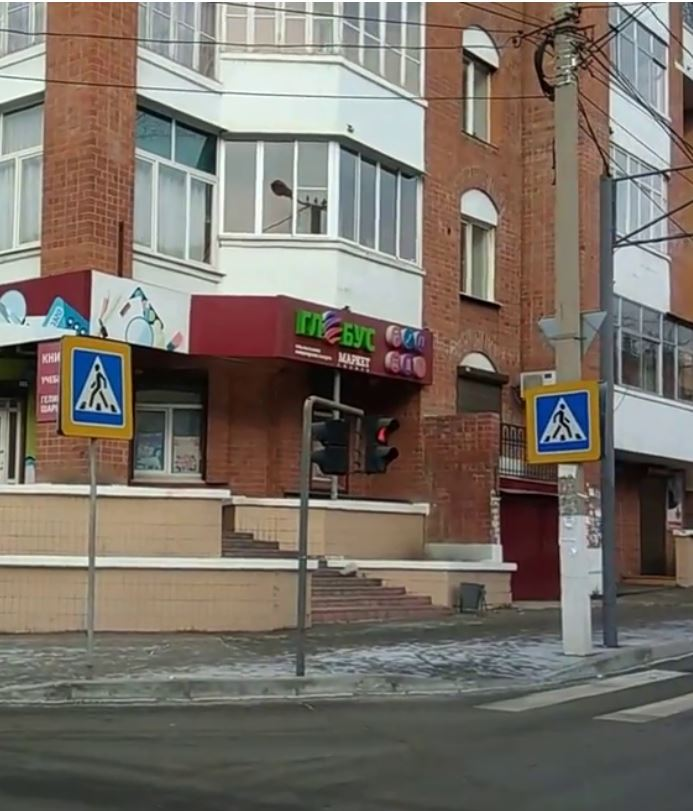Yaya Gecidi: (74, 351, 125, 425), (537, 395, 590, 454)
